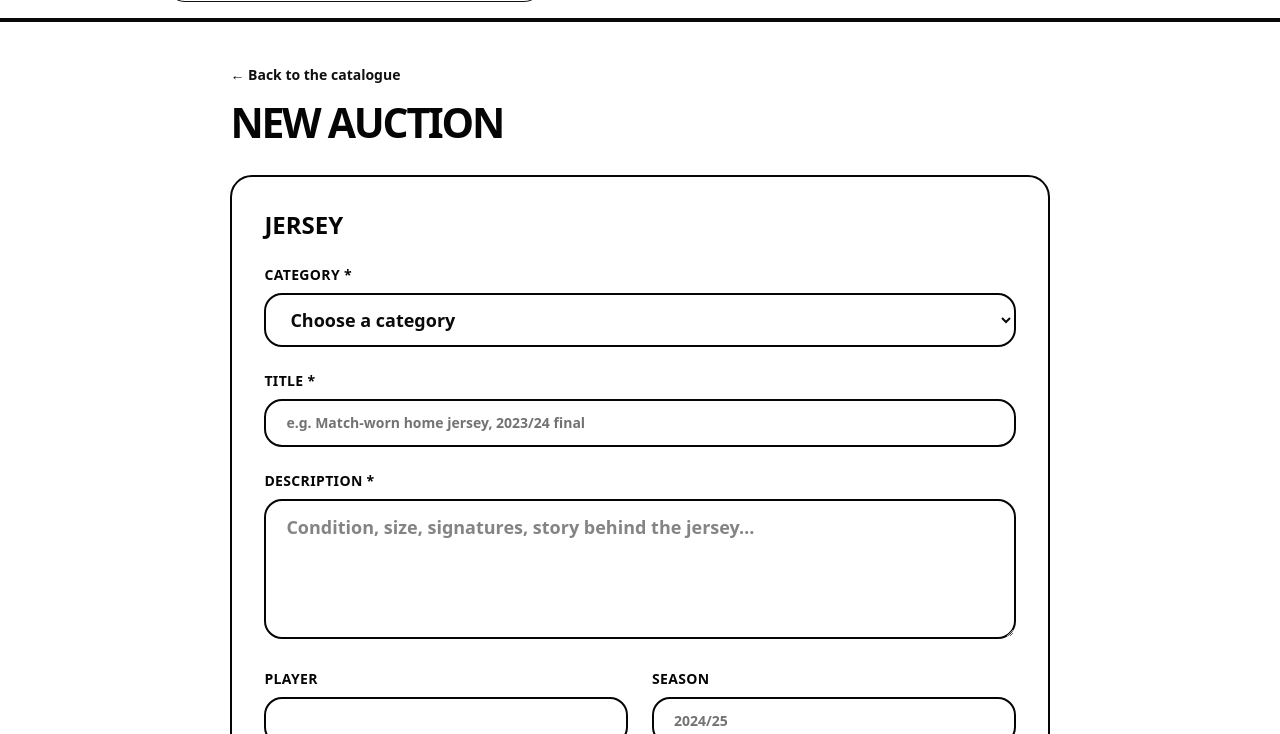
NewListingView: errors from the server › says when the title is already taken
Step 1. Select "Player jerseys" in the dropdown labelled "Category *" → [640, 320], box top-left (264, 293), bottom-right (1016, 347)
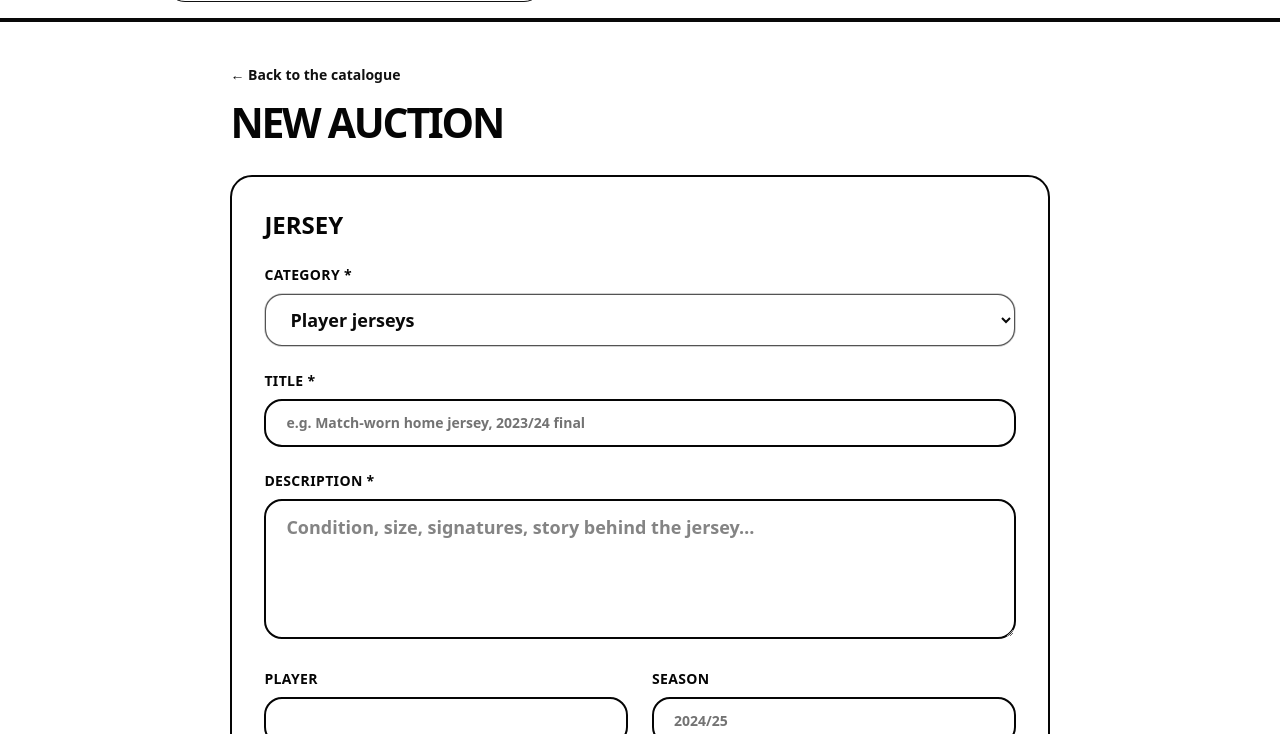
Step 2. Type "Signed home shirt" into the field labelled "Title *" → [640, 423], box top-left (264, 399), bottom-right (1016, 447)
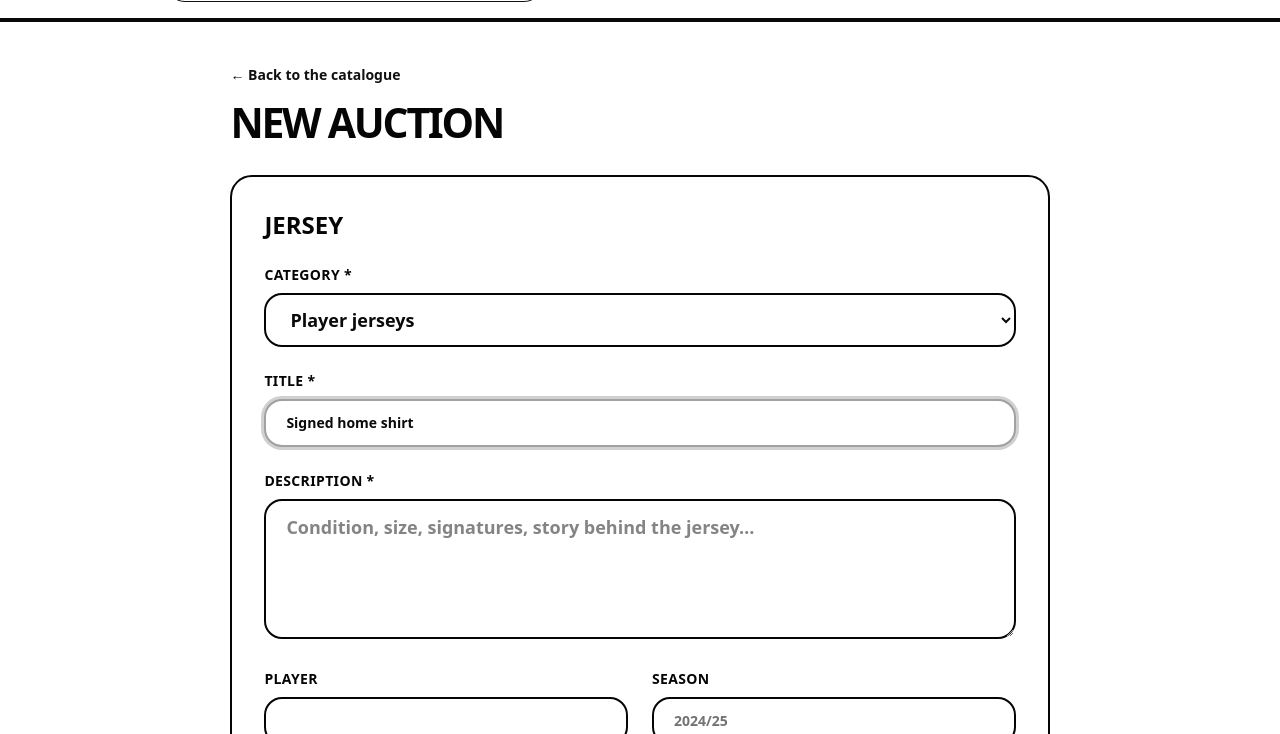
Step 3. Type "Signed by the whole squad after the final." into the text box labelled "Description *" → [640, 569], box top-left (264, 499), bottom-right (1016, 639)
(page scrolled)
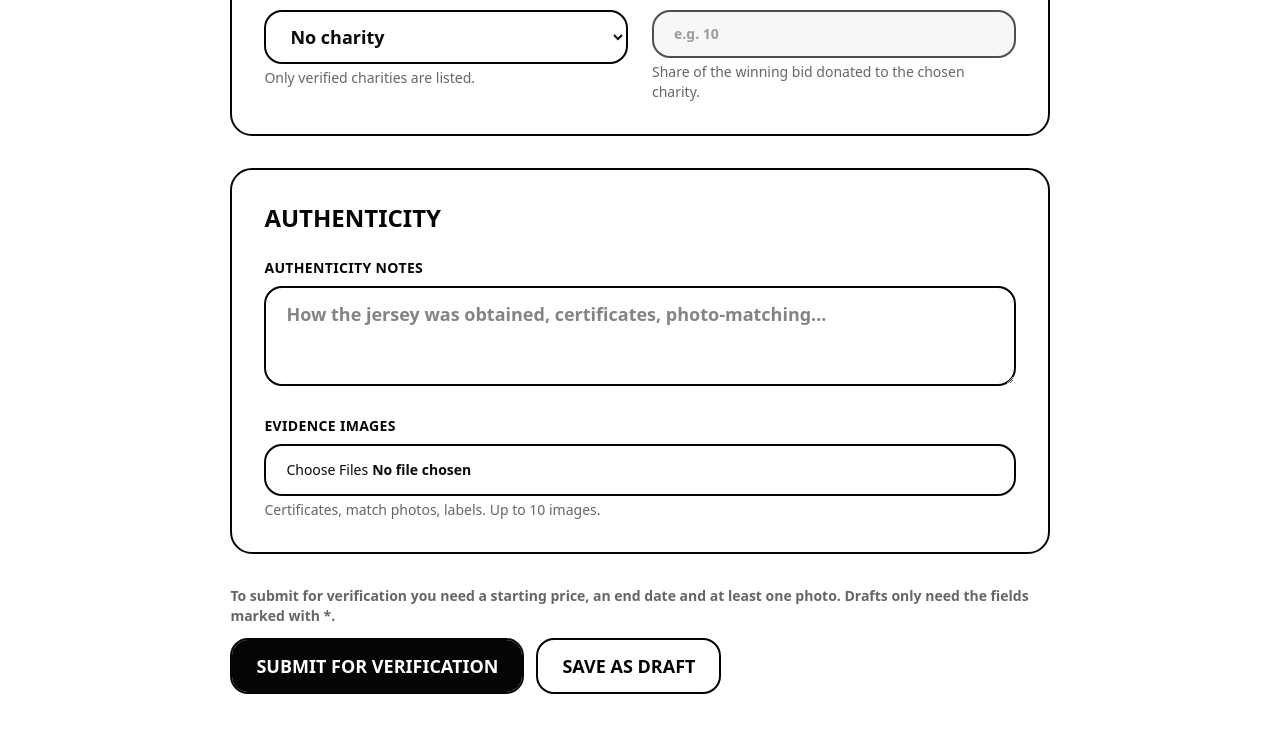
Step 4. Click the button "SAVE AS DRAFT" → [629, 666], box top-left (536, 638), bottom-right (721, 694)
(page scrolled)
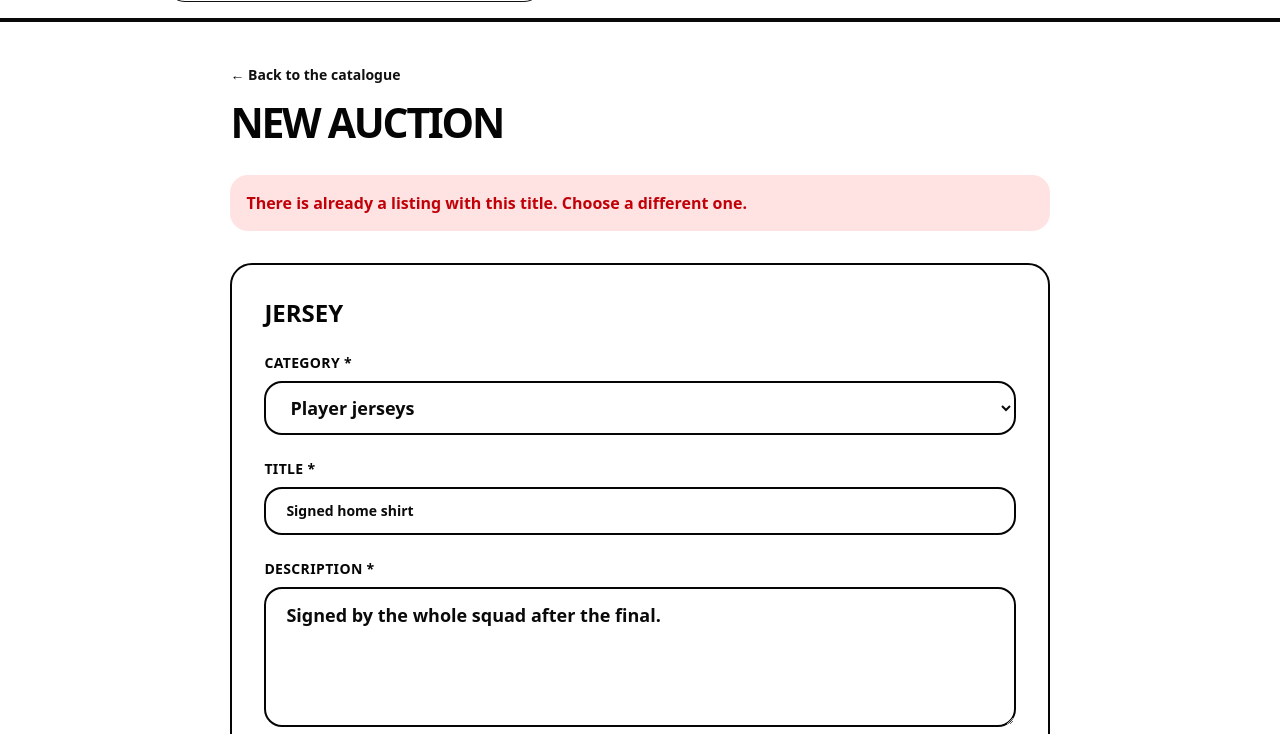
Expected: the message shows "There is already a listing with this title.", top-left (246, 192), bottom-right (747, 214)
